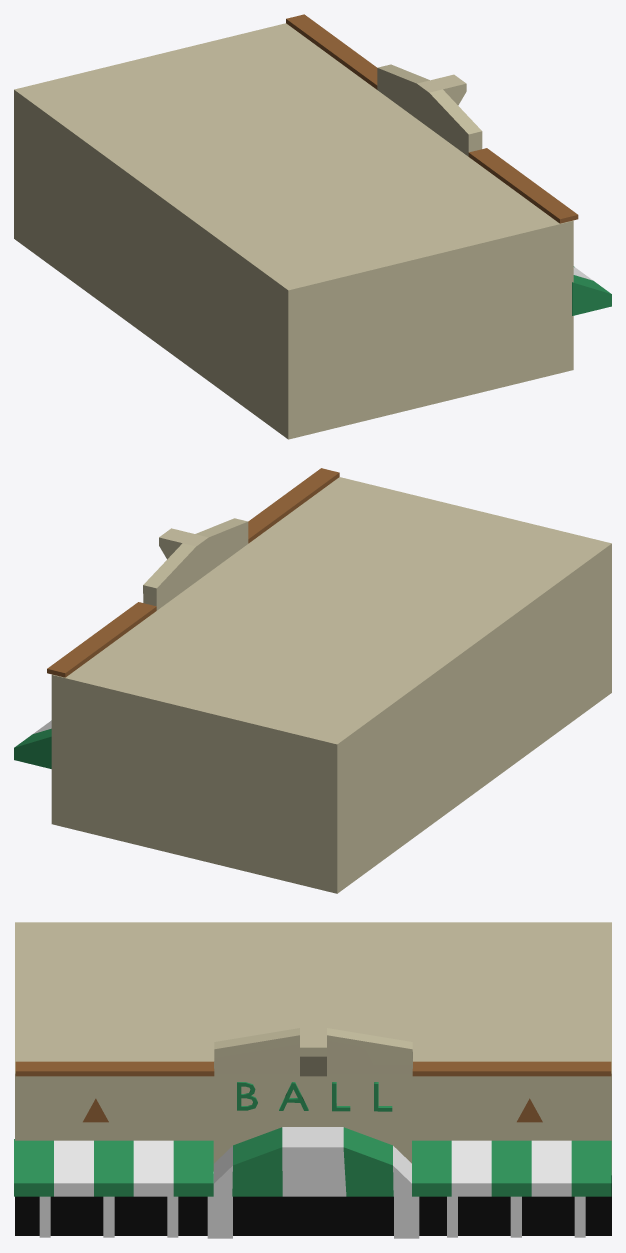
The model's file is fixed ball again.fbx.
3 views of the same model, one above another, from view 1: azimuth 30°, elevation 25°; view 2: azimuth 150°, elevation 25°; view 3: azimuth 270°, elevation 25° (orthographic). The views are drawn at different scales.
Parts seen in each view (by area): view 1: Cube.001; view 2: Cube.001; view 3: Cube.001.
Boxes of the visible parts, box(x1,y1,x2,y2) form: Cube.001: box(14, 14, 611, 439); Cube.001: box(14, 468, 611, 893); Cube.001: box(14, 922, 611, 1238).
Size of the model in its own units: 4740 by 2601 by 6984.
